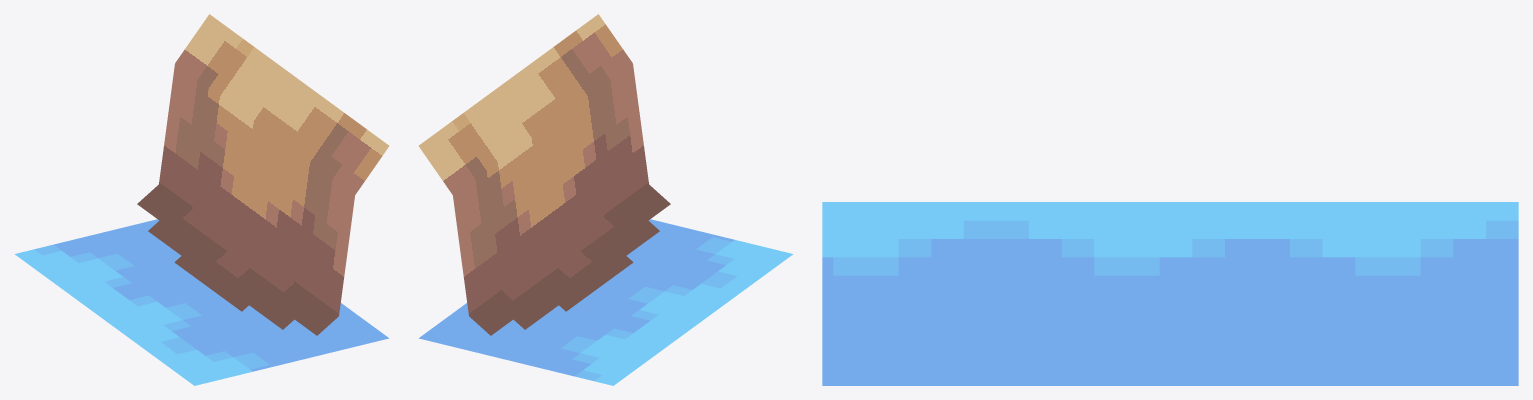
3 renders of one model, left to right at view 1: azimuth 30°, elevation 25°; view 2: azimuth 150°, elevation 25°; view 3: azimuth 270°, elevation 25°, orthographic. The views are drawn at different scales.
Size of the model in its own units: 0.625 by 0.5896 by 1.
Materials: 2 (2 with a texture image).
